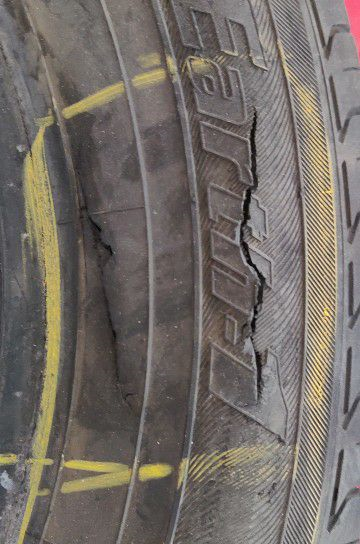cut: (74, 174, 144, 416), (238, 102, 268, 405)
